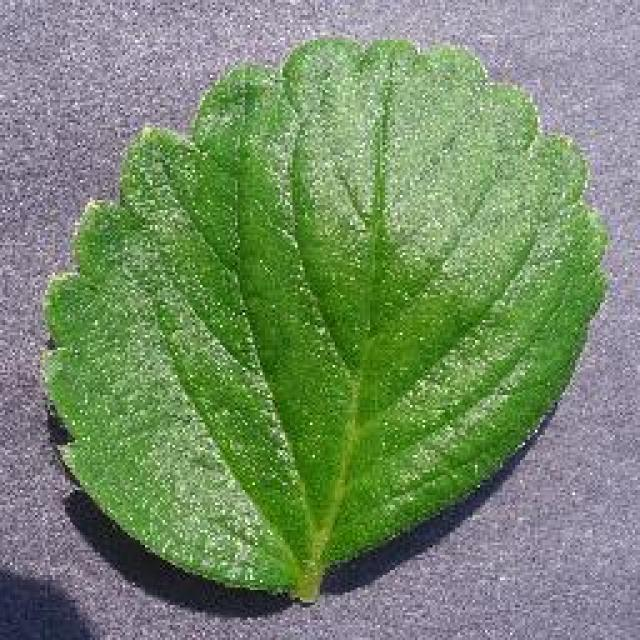Strawberry___healthy: (30, 12, 620, 630)
